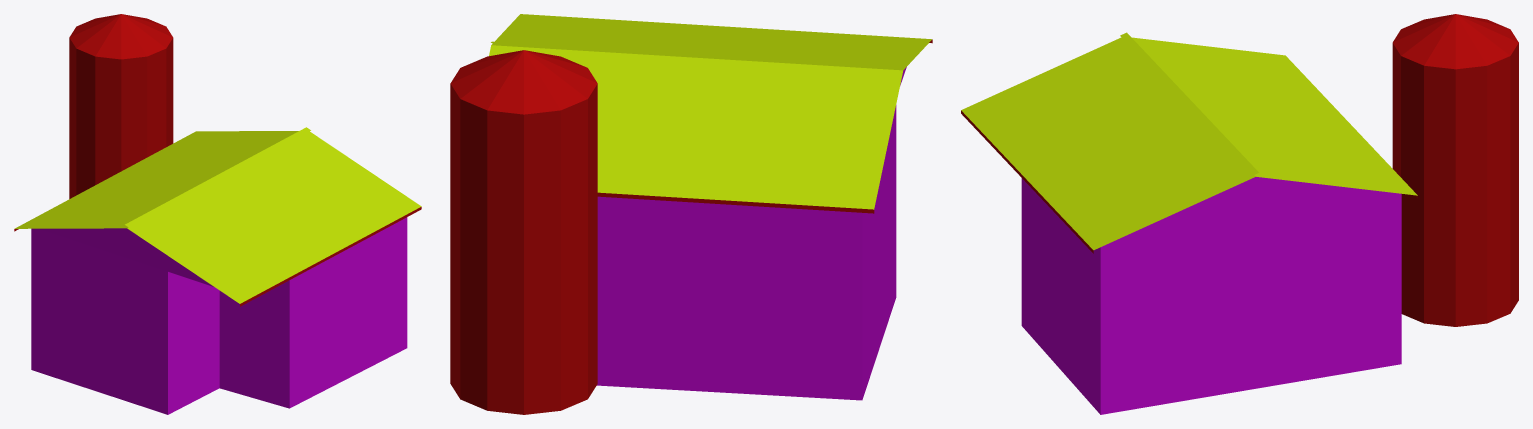
The model's file is sjs_31.glb.
The picture shows the model from 3 angles, left to right: view 1: azimuth 30°, elevation 25°; view 2: azimuth 150°, elevation 25°; view 3: azimuth 270°, elevation 25°; orthographic projection. The views are drawn at different scales.
Visible parts, largest first — view 1: sjs_31; view 2: sjs_31; view 3: sjs_31.
Part boxes in pixels (<box>): sjs_31: <box>14,14,421,414</box>; sjs_31: <box>450,14,932,414</box>; sjs_31: <box>961,14,1518,414</box>.
Bounding box in the file's own units: 14.6 × 11.1 × 17.65.
